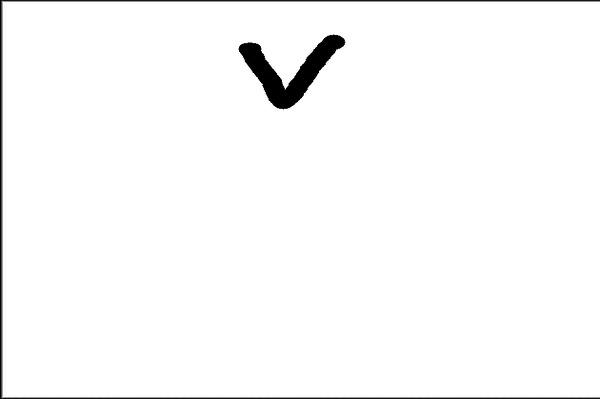V: (232, 25, 354, 111)
